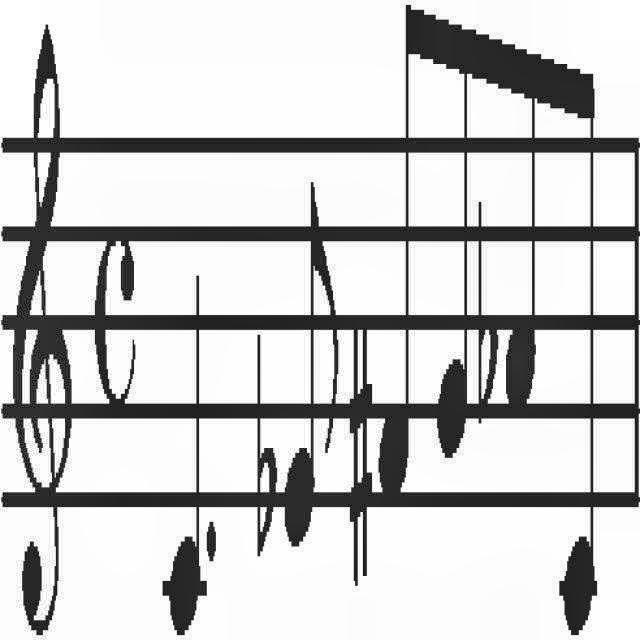Bass-clef: (12, 14, 74, 638)
Bemol: (476, 195, 499, 428), (256, 330, 278, 566)
Diez: (350, 323, 374, 587)
Eighth-note: (558, 57, 598, 636), (377, 1, 423, 503), (284, 177, 340, 551), (436, 14, 474, 460), (506, 42, 538, 410)
Quarter-note: (162, 265, 208, 639)
